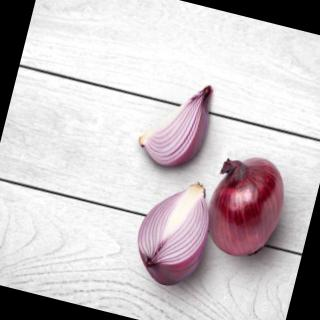Bawang Merah: (124, 169, 222, 295), (196, 145, 297, 267)
